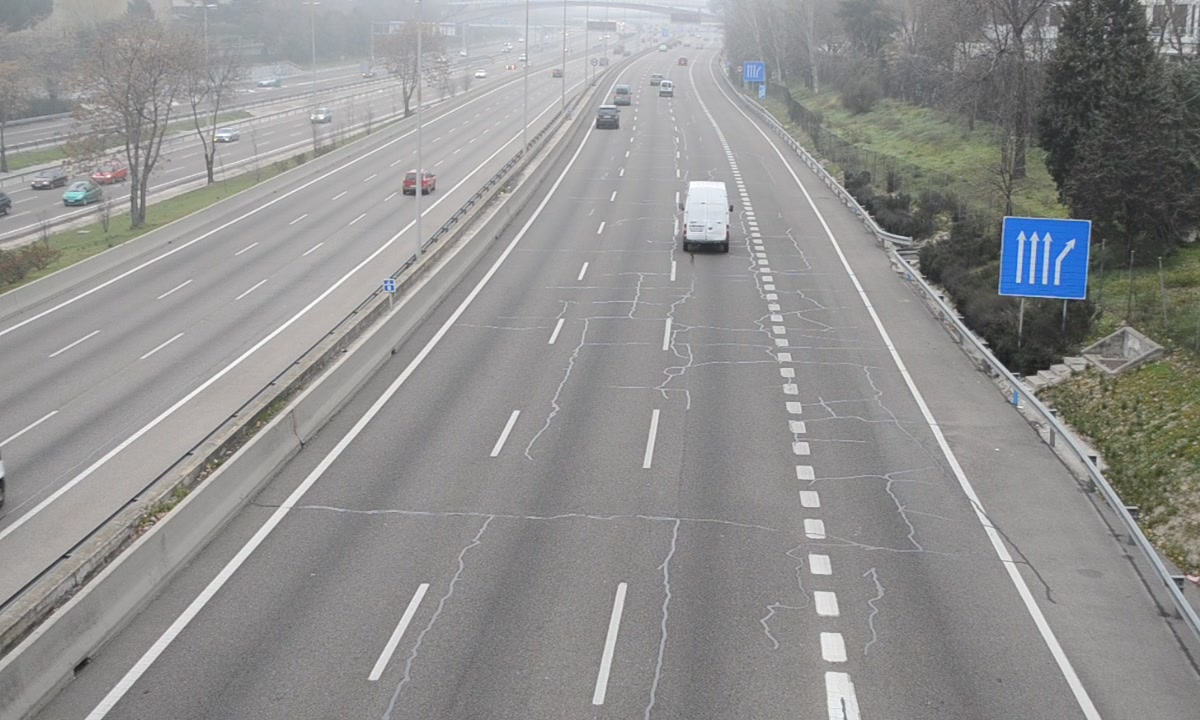car: (594, 105, 618, 129)
van: (684, 180, 732, 251)
